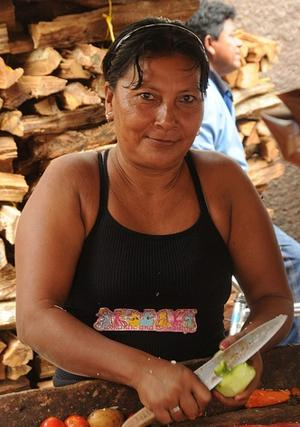person: (14, 18, 295, 427)
